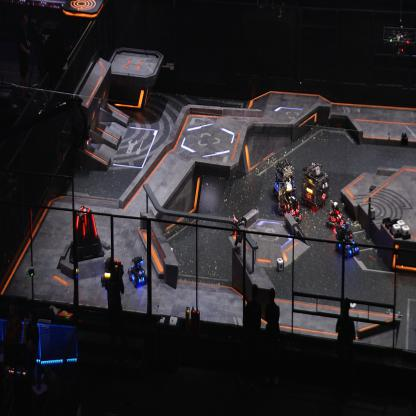car: (301, 162, 331, 212), (272, 156, 298, 196), (336, 222, 360, 262), (277, 182, 298, 216), (326, 198, 347, 232), (127, 255, 148, 289), (100, 256, 119, 291), (283, 196, 302, 224)
